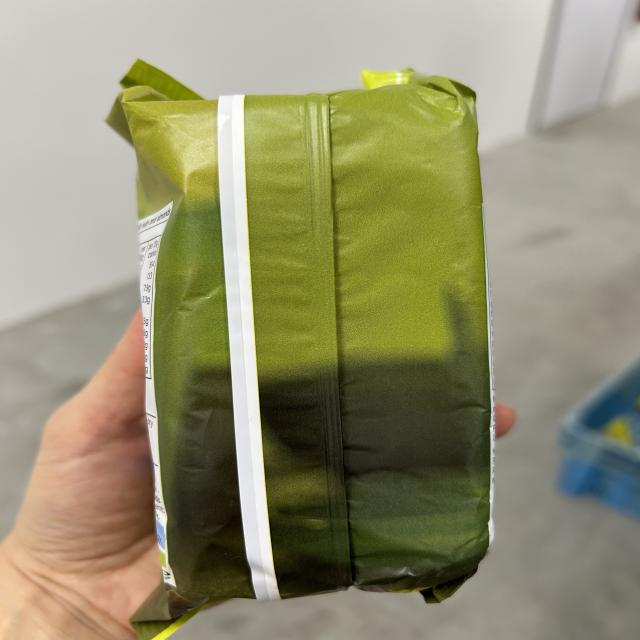object_name: (124, 88, 489, 598)
